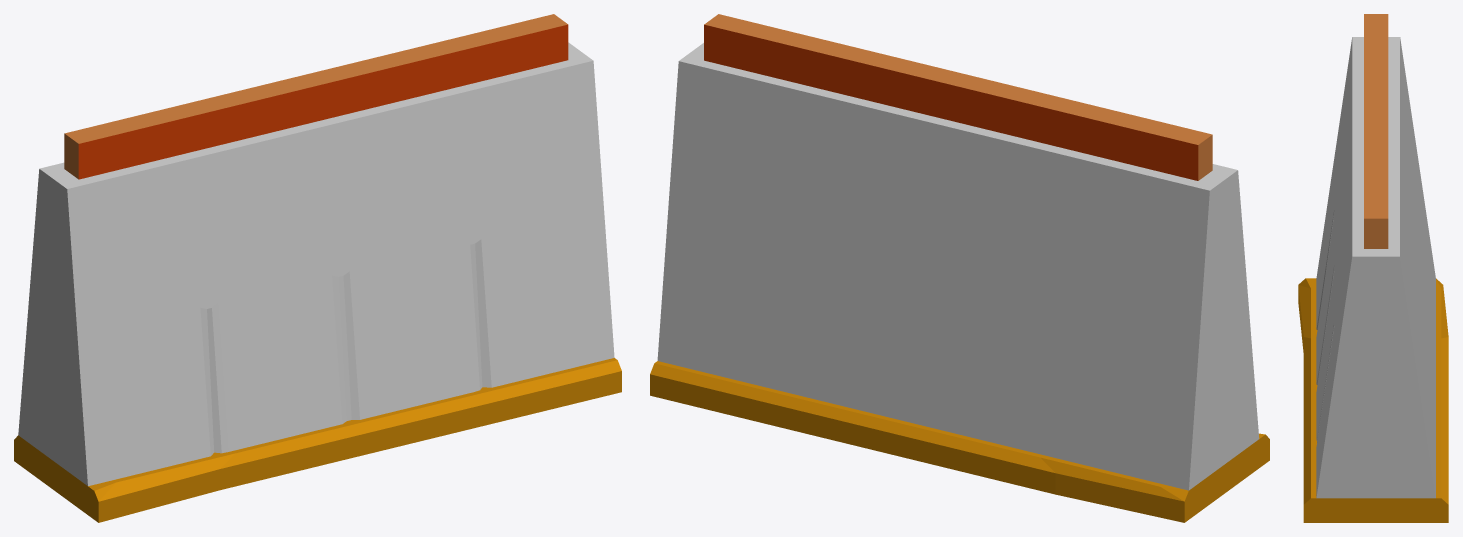
The model's file is traffic barricade 2.fbx.
The picture shows the model from 3 angles, left to right: view 1: azimuth 30°, elevation 25°; view 2: azimuth 150°, elevation 25°; view 3: azimuth 270°, elevation 25°; orthographic projection. The views are drawn at different scales.
Visible parts, largest first — view 1: Cube; view 2: Cube; view 3: Cube.
Part boxes in pixels (x1=…): Cube: x1=14, y1=14, x2=621, y2=522; Cube: x1=650, y1=14, x2=1269, y2=522; Cube: x1=1298, y1=14, x2=1448, y2=522.
Size of the model in its own units: 331 by 208 by 95.67.
